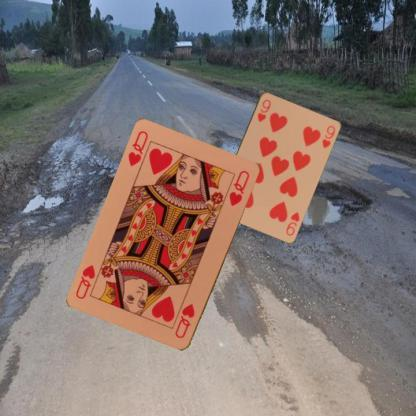9h: (283, 209, 301, 237), (255, 97, 272, 123)
Qh: (125, 128, 150, 168), (172, 301, 197, 340)
